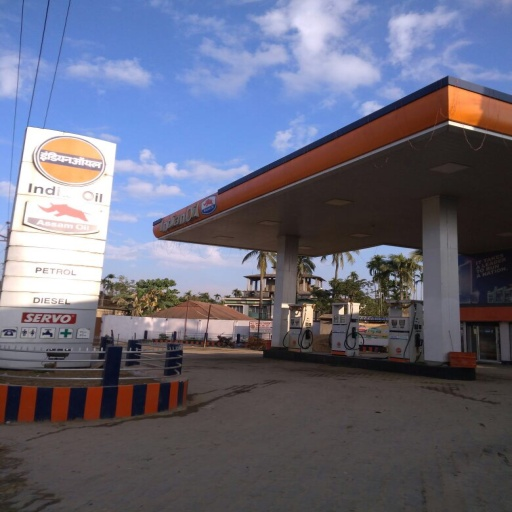roof: (154, 77, 510, 269)
